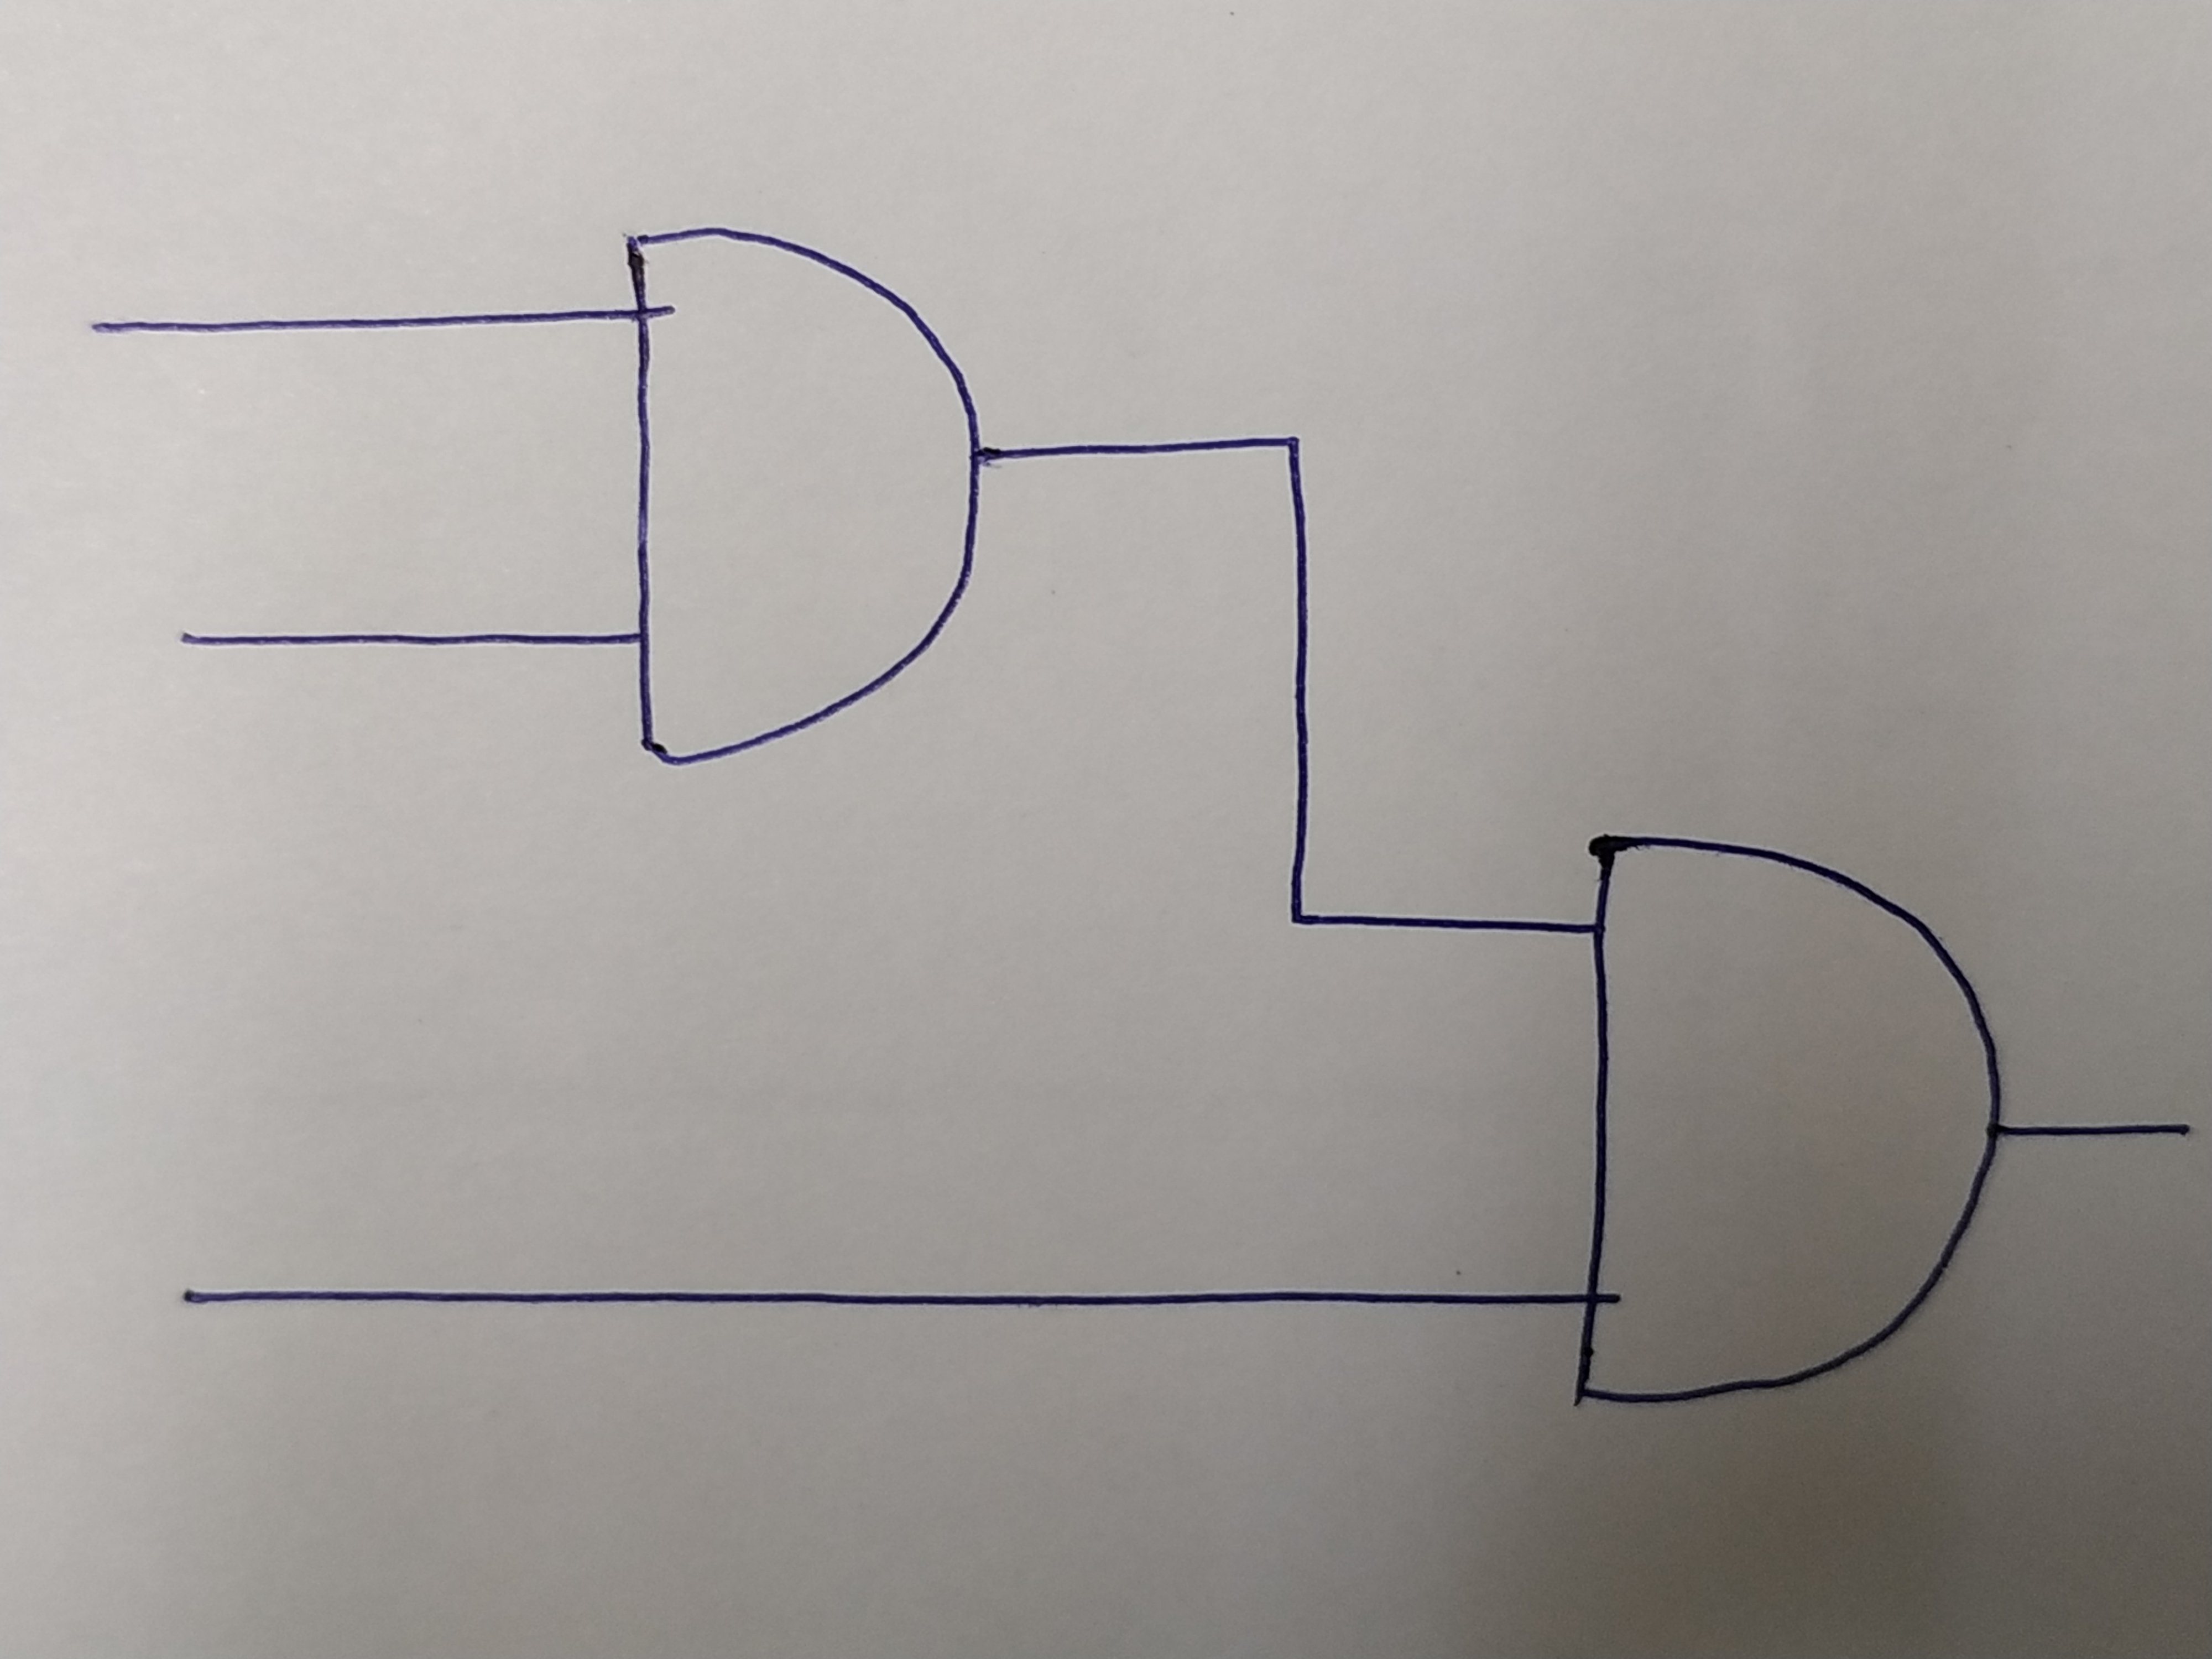and: (1578, 831, 2000, 1406), (624, 228, 981, 767)
